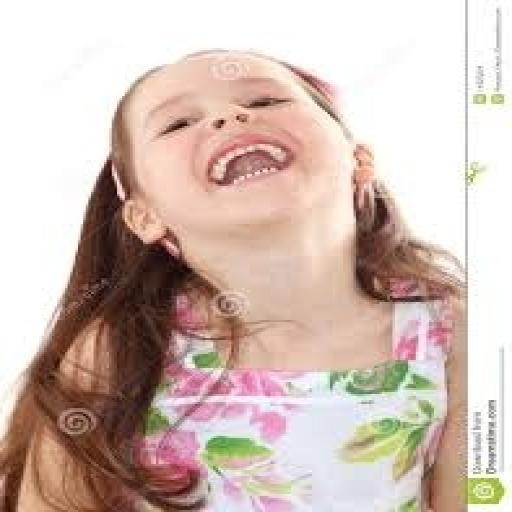laughing: (0, 42, 468, 510)
